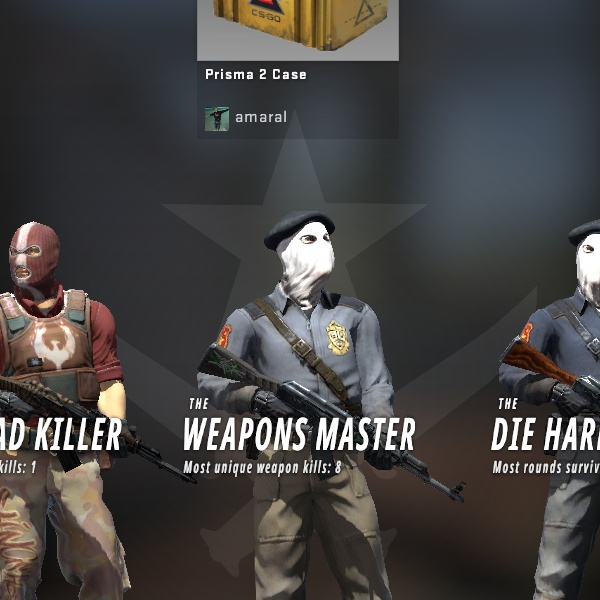t_body: (0, 197, 160, 600)
t_head: (0, 207, 90, 320)
